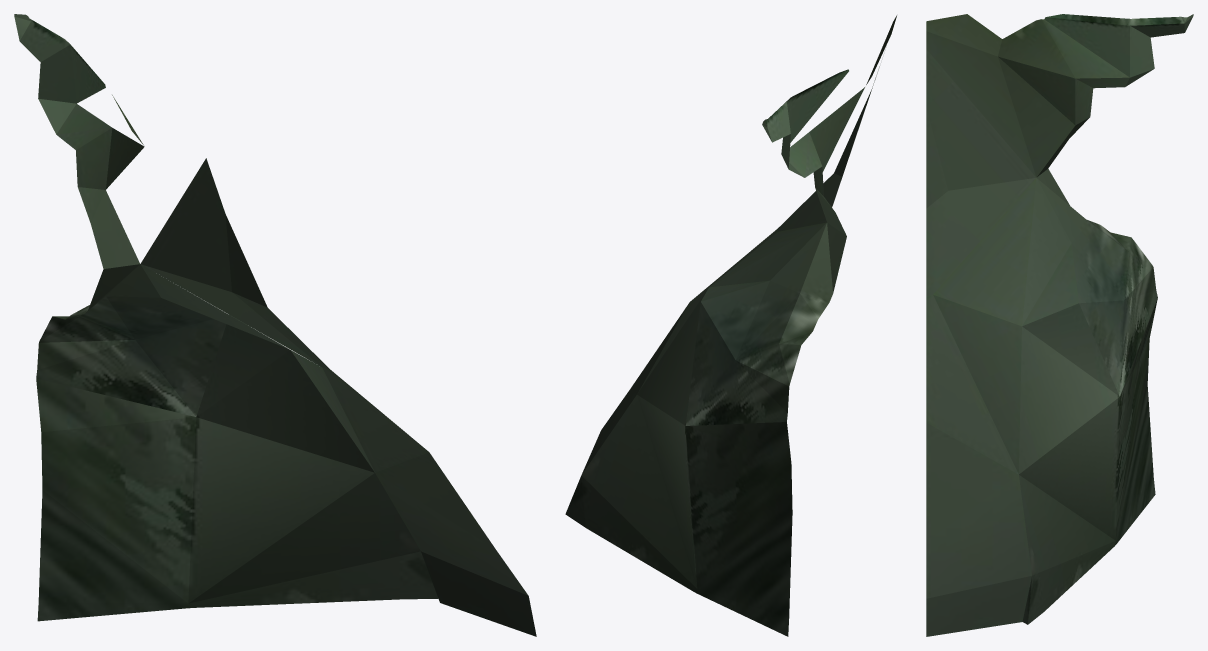
The picture shows the model from 3 angles, left to right: view 1: azimuth 30°, elevation 25°; view 2: azimuth 150°, elevation 25°; view 3: azimuth 270°, elevation 25°; orthographic projection. The views are drawn at different scales.
Bounding box in the file's own units: 1.87 × 2.95 × 1.49.
Materials: 2 (2 with a texture image).
